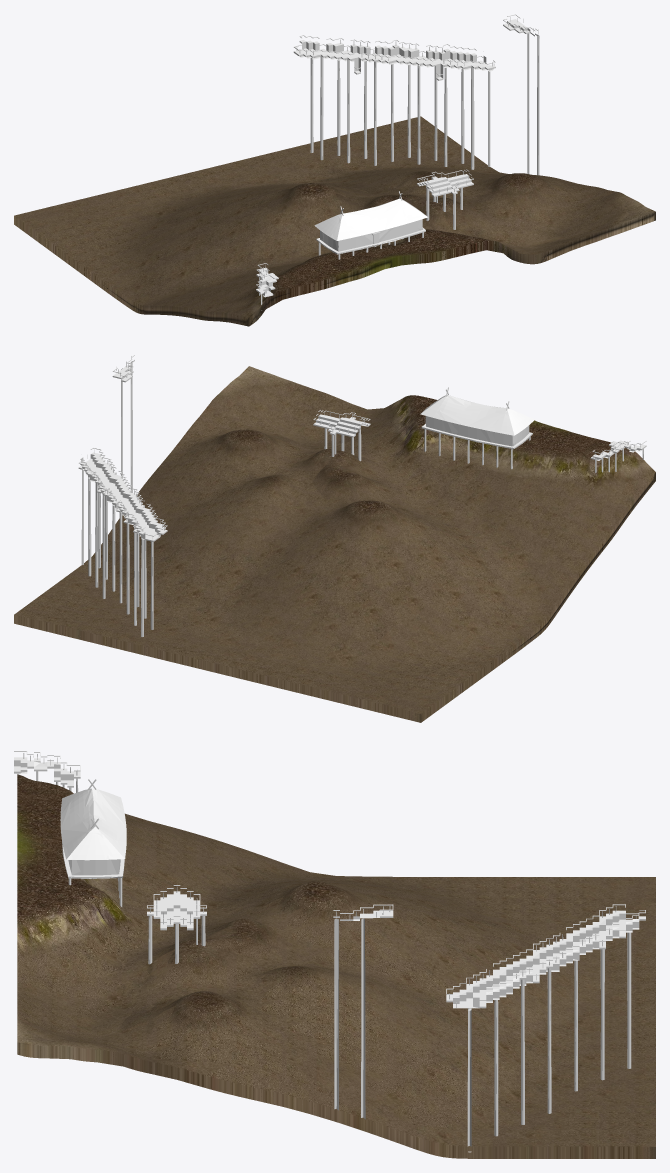
The model's file is chunk_2_1.glb.
The picture shows the model from 3 angles, top to bottom: view 1: azimuth 30°, elevation 25°; view 2: azimuth 150°, elevation 25°; view 3: azimuth 270°, elevation 25°; orthographic projection. The views are drawn at different scales.
Parts seen in each view (by area): view 1: Terrain_L0, Terrain_L2, Terrain_L1, Buildings_L0, Buildings_L1; view 2: Terrain_L0, Terrain_L2, Terrain_L1, Buildings_L0, Buildings_L1; view 3: Terrain_L0, Terrain_L2, Terrain_L1, Buildings_L0, Buildings_L1.
Boxes of the visible parts, <box> form: Terrain_L0: <box>14,157,655,326</box>; Terrain_L2: <box>14,157,655,325</box>; Terrain_L1: <box>14,116,655,326</box>; Buildings_L0: <box>256,14,538,296</box>; Buildings_L1: <box>260,21,539,310</box>; Terrain_L0: <box>14,367,655,722</box>; Terrain_L2: <box>41,366,655,722</box>; Terrain_L1: <box>14,373,655,722</box>; Buildings_L0: <box>78,355,646,636</box>; Buildings_L1: <box>81,360,643,636</box>; Terrain_L0: <box>17,774,655,1158</box>; Terrain_L2: <box>17,790,654,1158</box>; Terrain_L1: <box>17,784,655,1158</box>; Buildings_L0: <box>14,751,645,1145</box>; Buildings_L1: <box>14,760,645,1152</box>.
Size of the model in its own units: 96.28 by 41.05 by 96.5.
3 materials, 1 textured.
